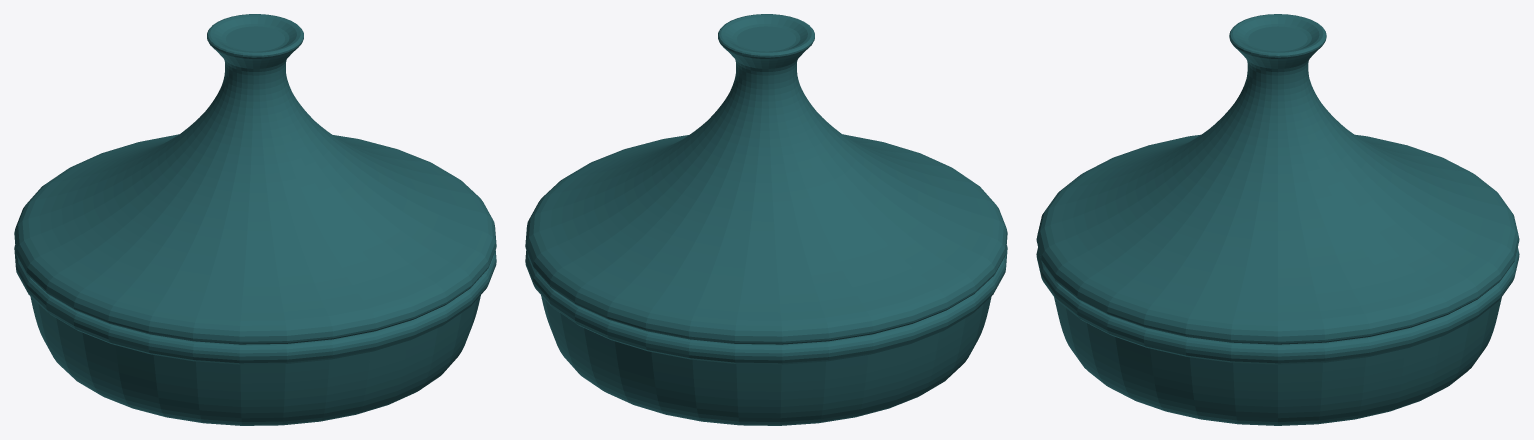
File: NEW600_ceramic_tagine_LOD2.glb
3 renders of one model, left to right at view 1: azimuth 30°, elevation 25°; view 2: azimuth 150°, elevation 25°; view 3: azimuth 270°, elevation 25°, orthographic.
Parts seen in each view (by area): view 1: Concave_lid_integral_grip, Ceramic_vessel; view 2: Concave_lid_integral_grip, Ceramic_vessel; view 3: Concave_lid_integral_grip, Ceramic_vessel.
Boxes of the visible parts, x1,y1,x2,y2 form: Concave_lid_integral_grip: (14,14,496,344); Ceramic_vessel: (14,245,496,425); Concave_lid_integral_grip: (525,14,1007,344); Ceramic_vessel: (525,245,1007,425); Concave_lid_integral_grip: (1036,14,1519,344); Ceramic_vessel: (1036,247,1519,425).
Size of the model in its own units: 0.325 by 0.23 by 0.325.
